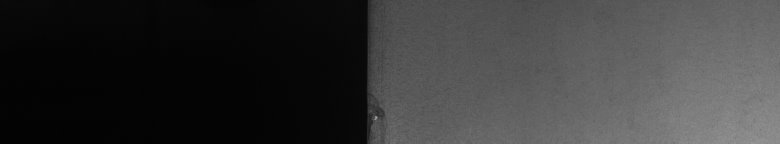hb: (376, 100, 392, 136)
